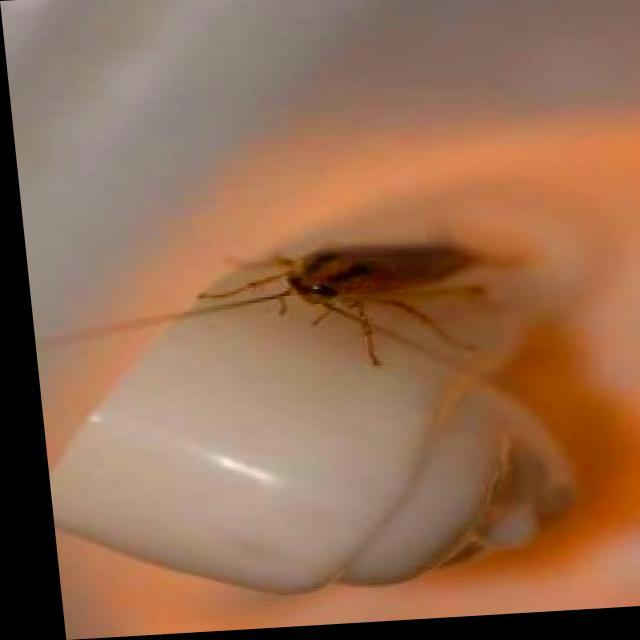cockroach: (240, 226, 519, 352)
